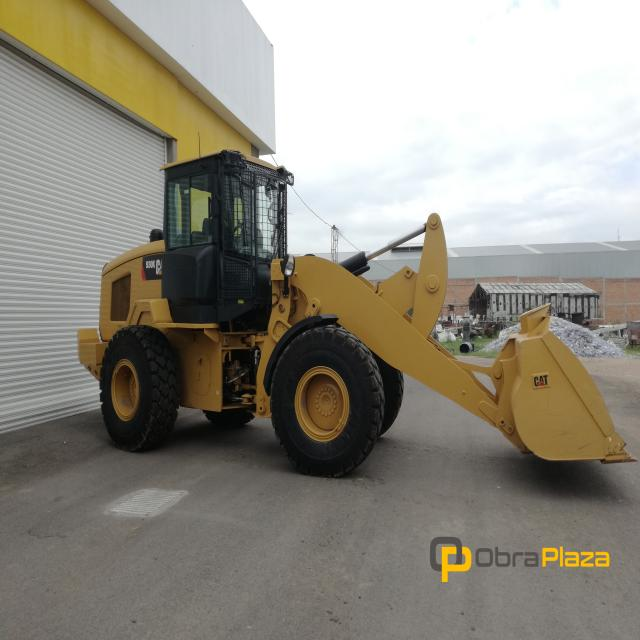buldozerpayloadergrader: (70, 142, 635, 479)
